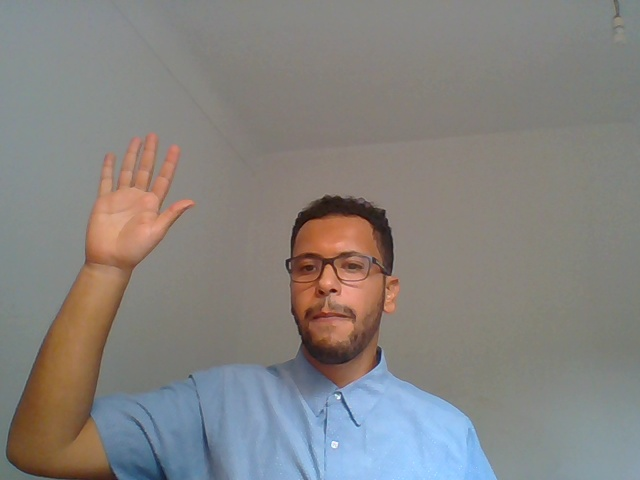hello: (51, 120, 206, 378)
